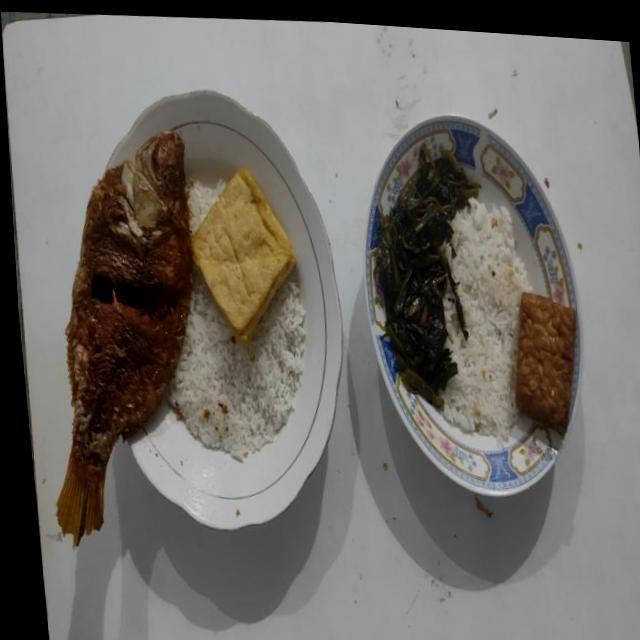ikan_mujair: (56, 132, 192, 546)
nasi_putih: (168, 270, 306, 458), (443, 198, 532, 440), (187, 178, 225, 235)
tahu_goreng: (192, 167, 295, 344)
tempe_goreng: (515, 292, 576, 432)
tumis_kangkung: (372, 144, 479, 408)
